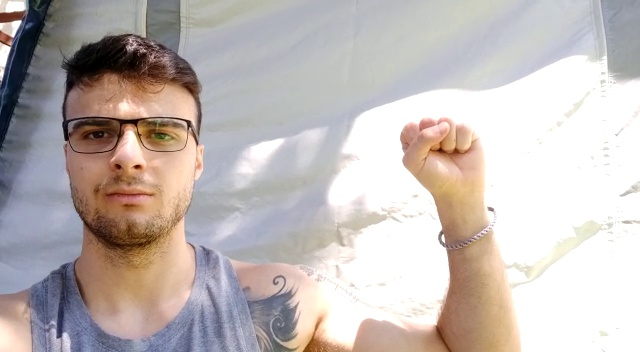Fist: (395, 115, 490, 198)
